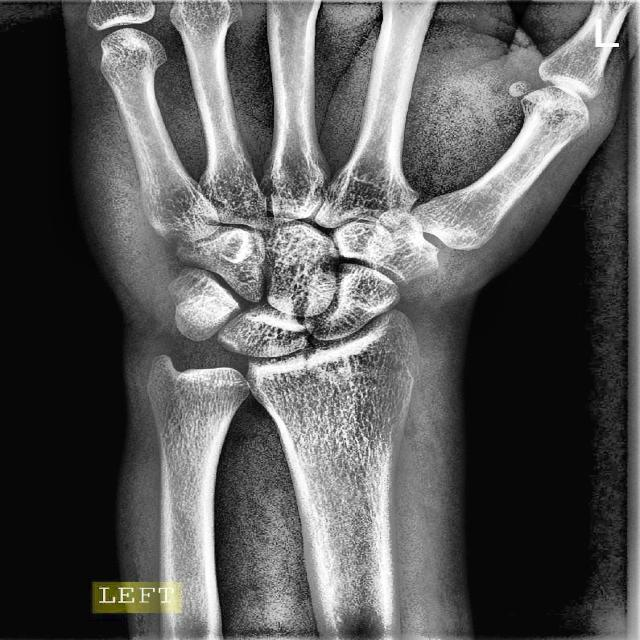line: (297, 336, 322, 376)
